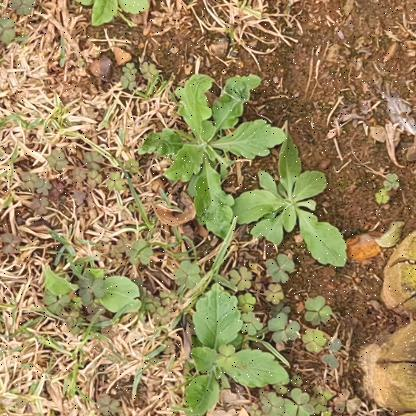Weeds: (139, 74, 286, 240), (234, 134, 347, 272), (185, 284, 287, 414), (43, 262, 141, 322), (73, 1, 147, 25)
